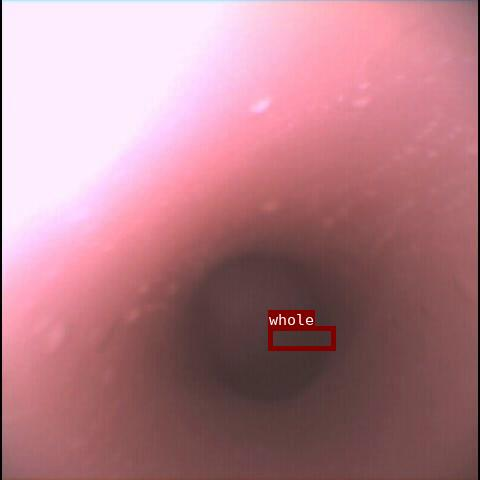whole: (268, 326, 335, 350)
